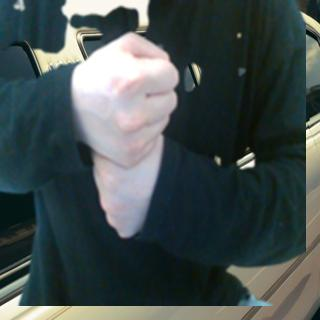CAREFUL: (72, 30, 187, 247)
